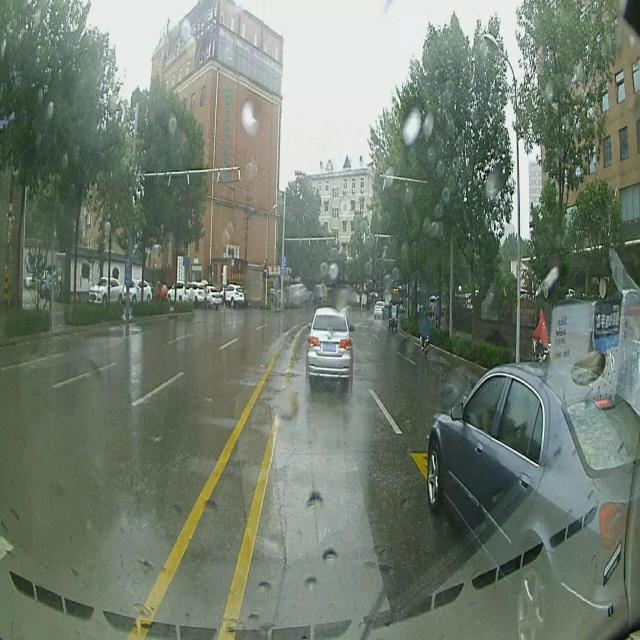car: (308, 304, 353, 392)
